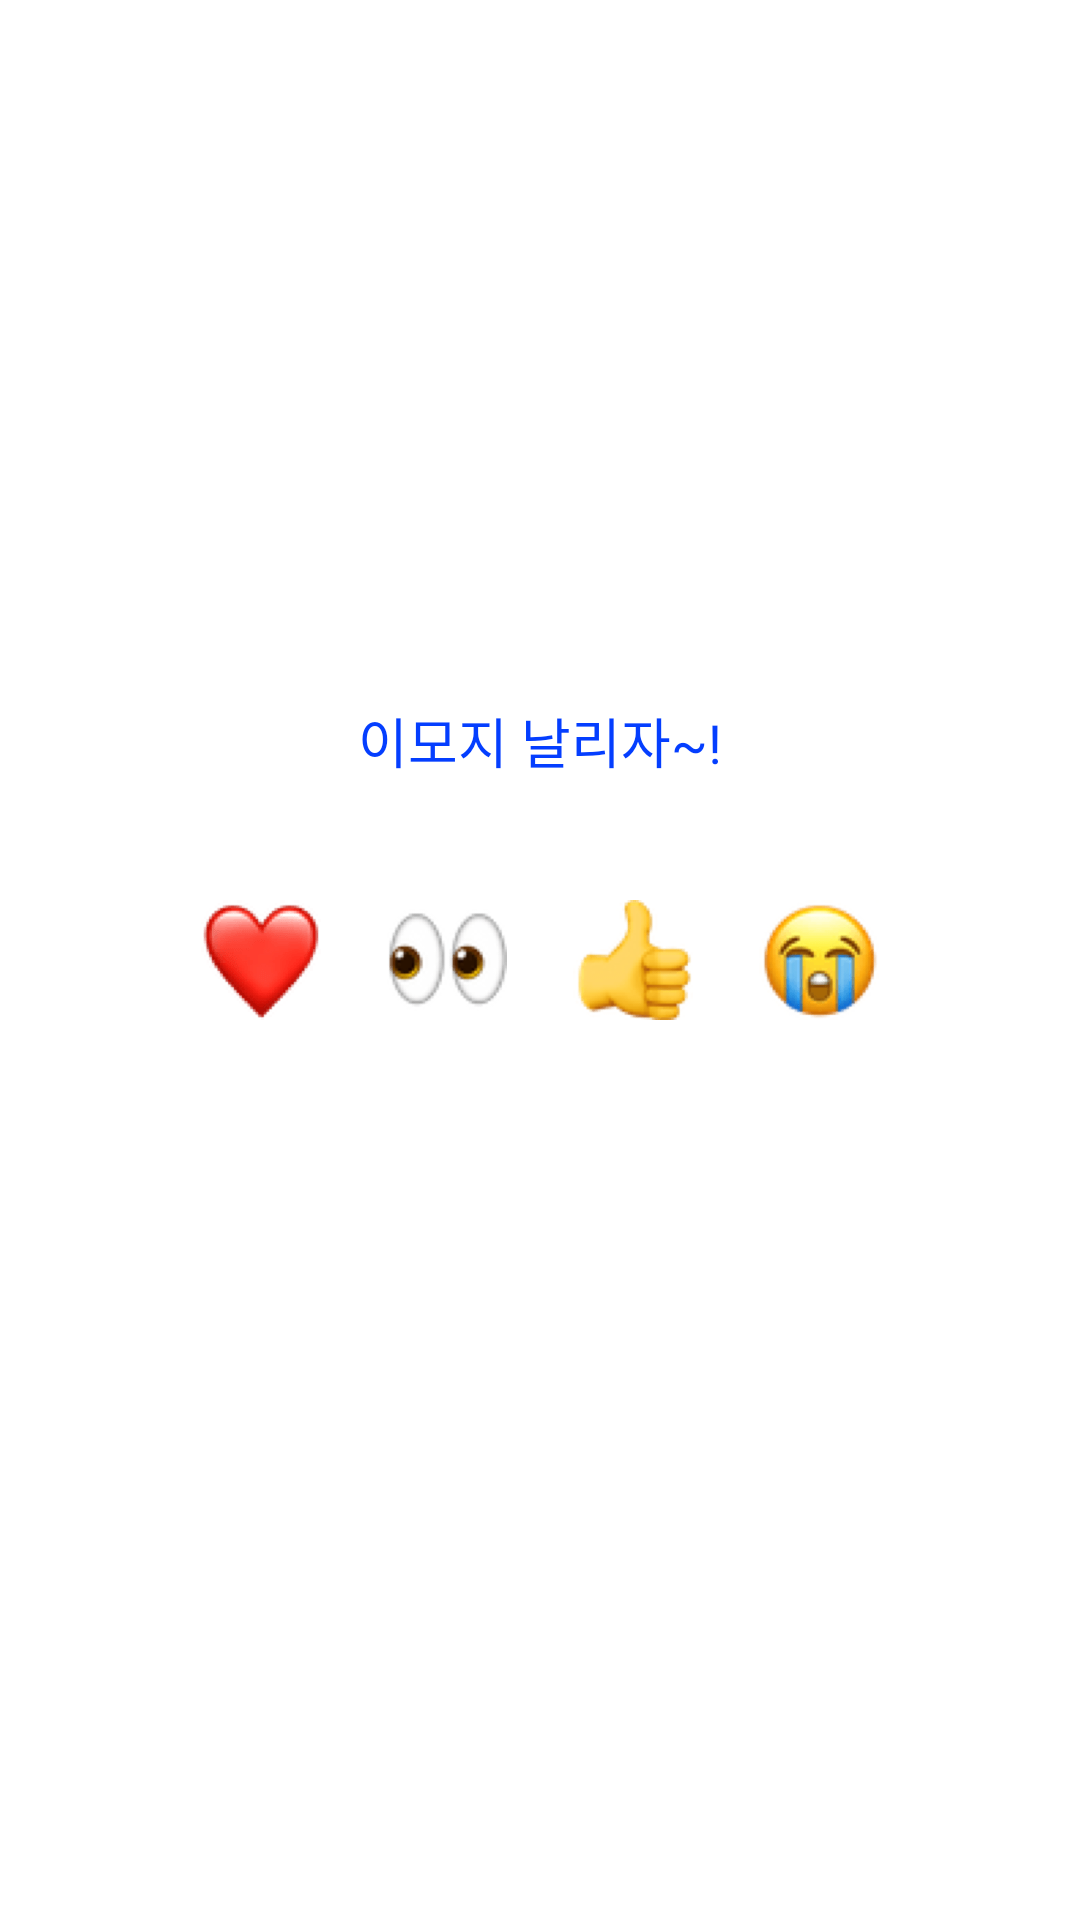

Icon click points for this 1080w x 1920h phone screenshot, format (x,y):
emo cry: (820,961)
emo eyes: (448,959)
emo good: (634,960)
emo heart: (261,961)
